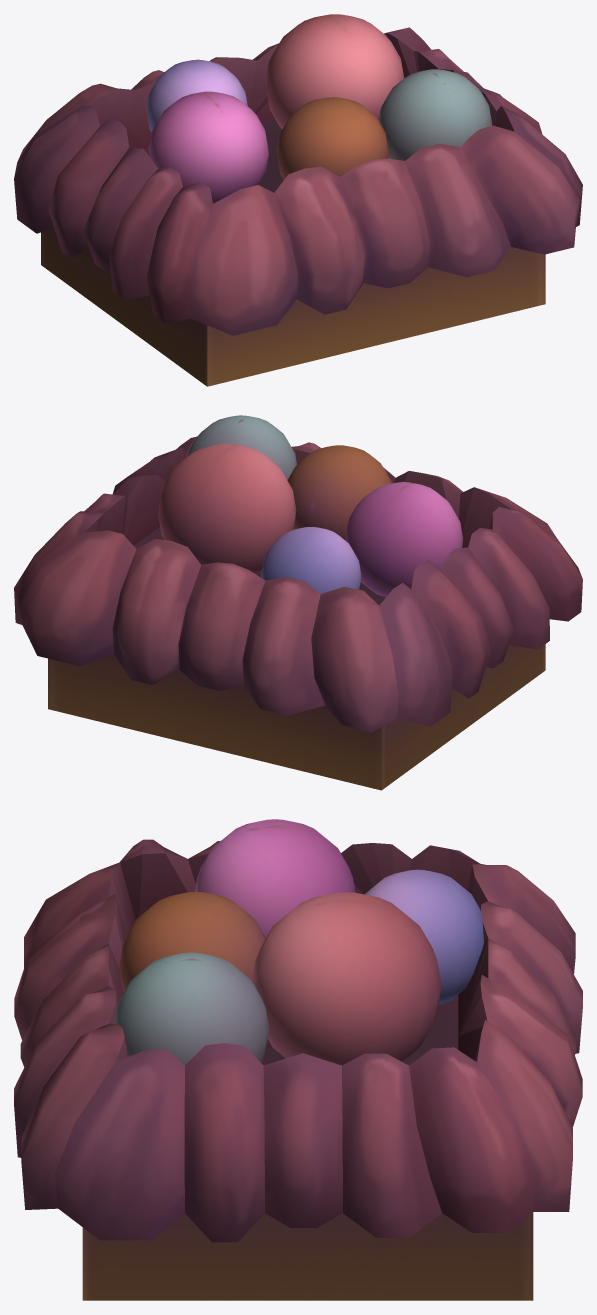
Rendered from scenes_around_box01b.FBX.
3 views of the same model, one above another, from view 1: azimuth 30°, elevation 25°; view 2: azimuth 150°, elevation 25°; view 3: azimuth 270°, elevation 25° (orthographic). The views are drawn at different scales.
Visible parts, largest first — view 1: scenes_around_box01b; view 2: scenes_around_box01b; view 3: scenes_around_box01b.
Boxes of the visible parts, bbox=[...] form: scenes_around_box01b: bbox=[14, 14, 582, 386]; scenes_around_box01b: bbox=[14, 415, 582, 790]; scenes_around_box01b: bbox=[14, 819, 582, 1300].
Bounding box in the file's own units: 9605 × 5088 × 8056.
